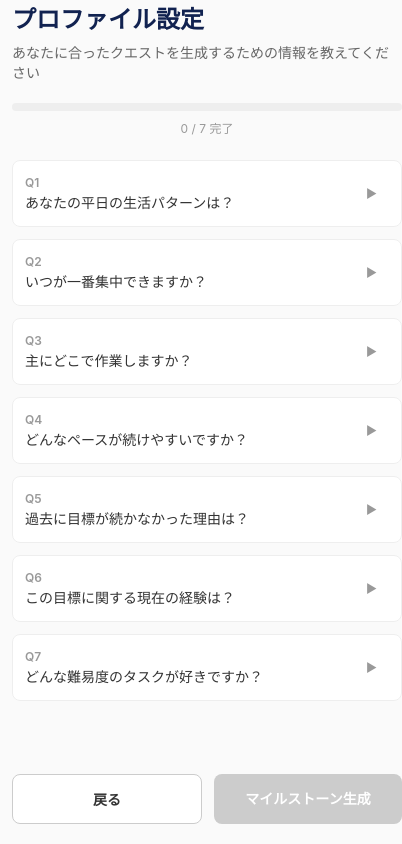
Test: ProfileStep 統合テスト › 選択肢の選択 › 全ての質問に回答すると進捗が更新されること
Expected: the text "0 / 7 完了" is shown, [181,121,233,136]
# 1つ目の質問に回答
Click the element labelled "あなたの平日の生活パターンは？": (201, 193) [25,175,377,211]
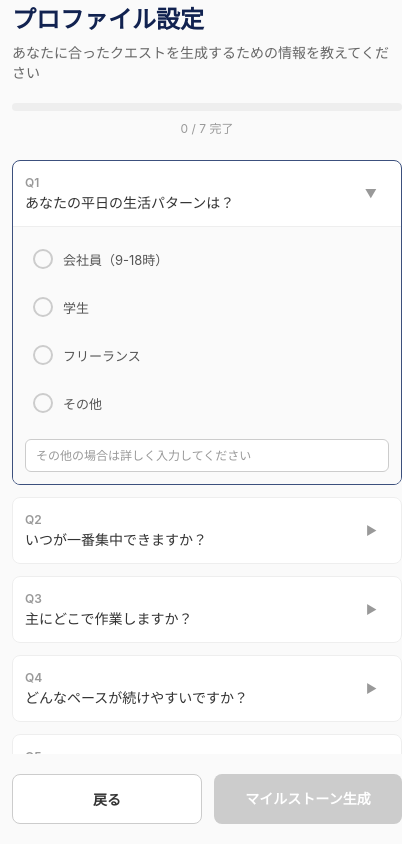
Click the element labelled "会社員（9-18時）": (101, 259) [33,249,168,269]
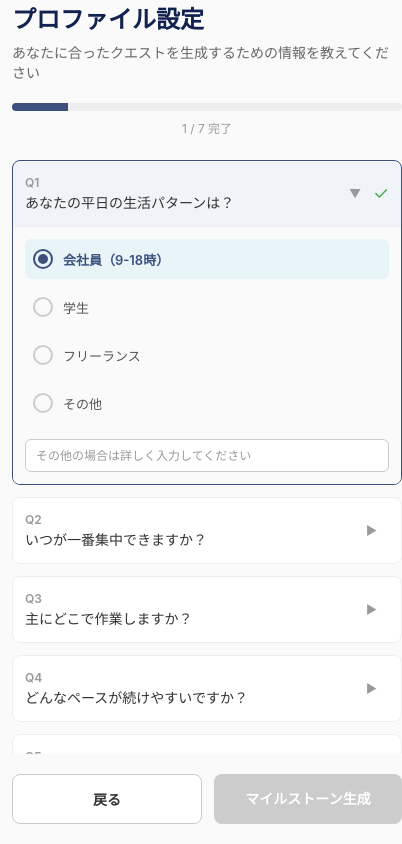
Expected: the text "1 / 7 完了" is shown, [182,121,232,136]
# 2つ目の質問に回答
Click the element labelled "いつが一番集中できますか？": (201, 530) [25,512,377,548]
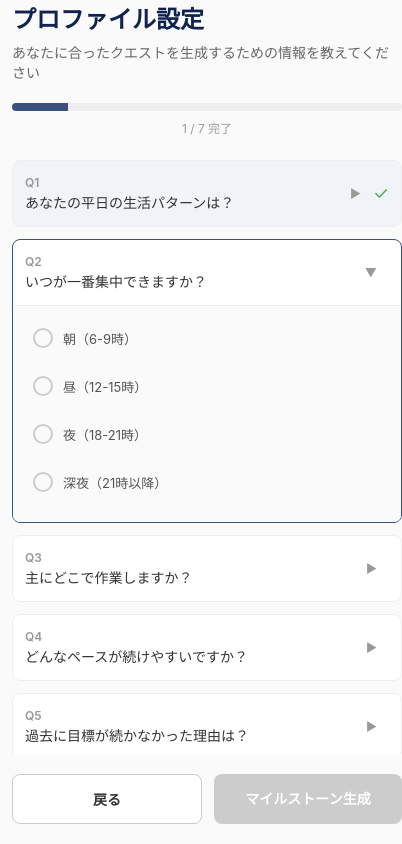
Click the element labelled "朝（6-9時）": (85, 338) [33,328,137,348]
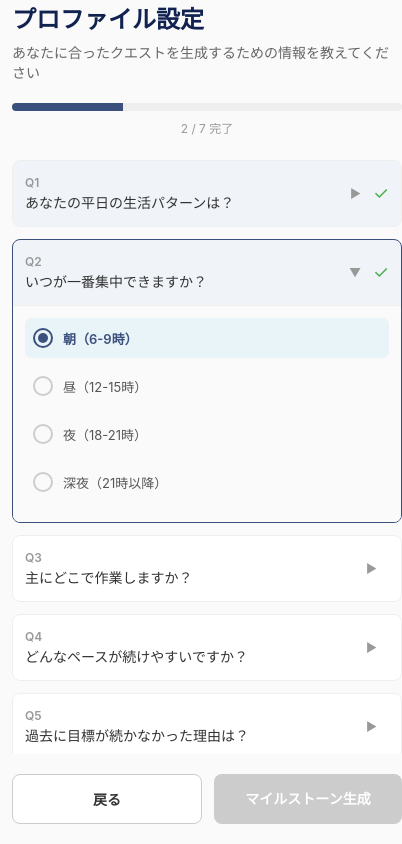
Expected: the text "2 / 7 完了" is shown, [181,121,233,136]
